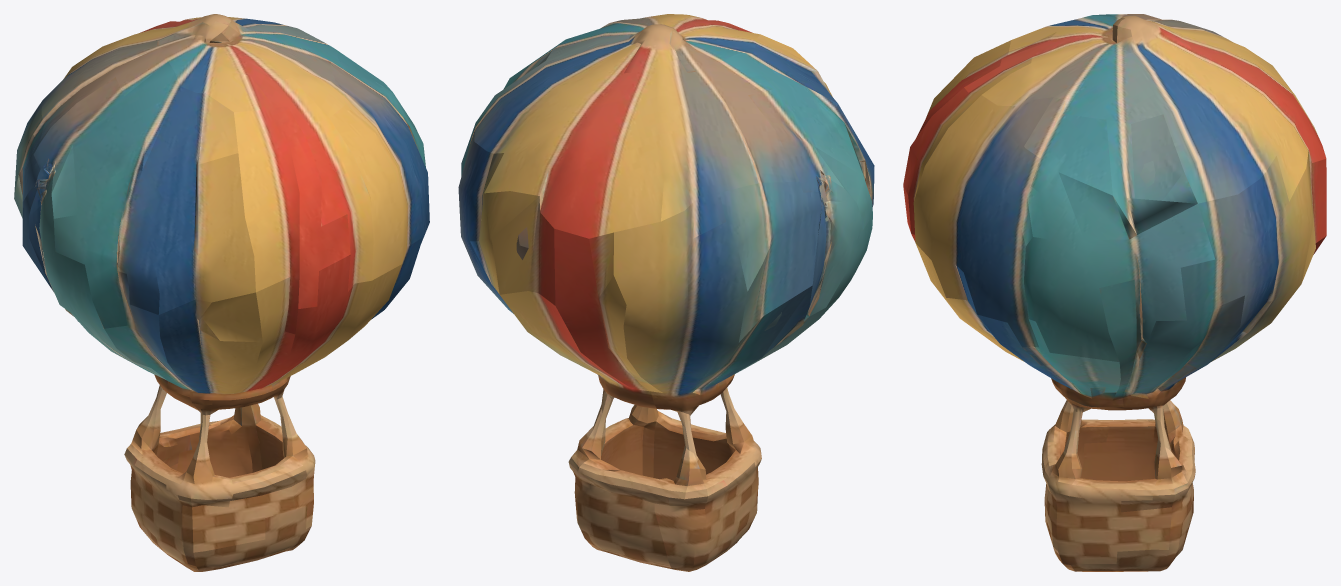
File: balon.glb
The picture shows the model from 3 angles, left to right: view 1: azimuth 30°, elevation 25°; view 2: azimuth 150°, elevation 25°; view 3: azimuth 270°, elevation 25°; orthographic projection.
Visible parts, largest first — view 1: Mesh0; view 2: Mesh0; view 3: Mesh0.
Boxes of the visible parts, x1,y1,x2,y2 form: Mesh0: (14,14,429,571); Mesh0: (458,14,874,571); Mesh0: (903,14,1326,571).
Size of the model in its own units: 1.38 by 1.9 by 1.37.
1 material, 1 textured.
